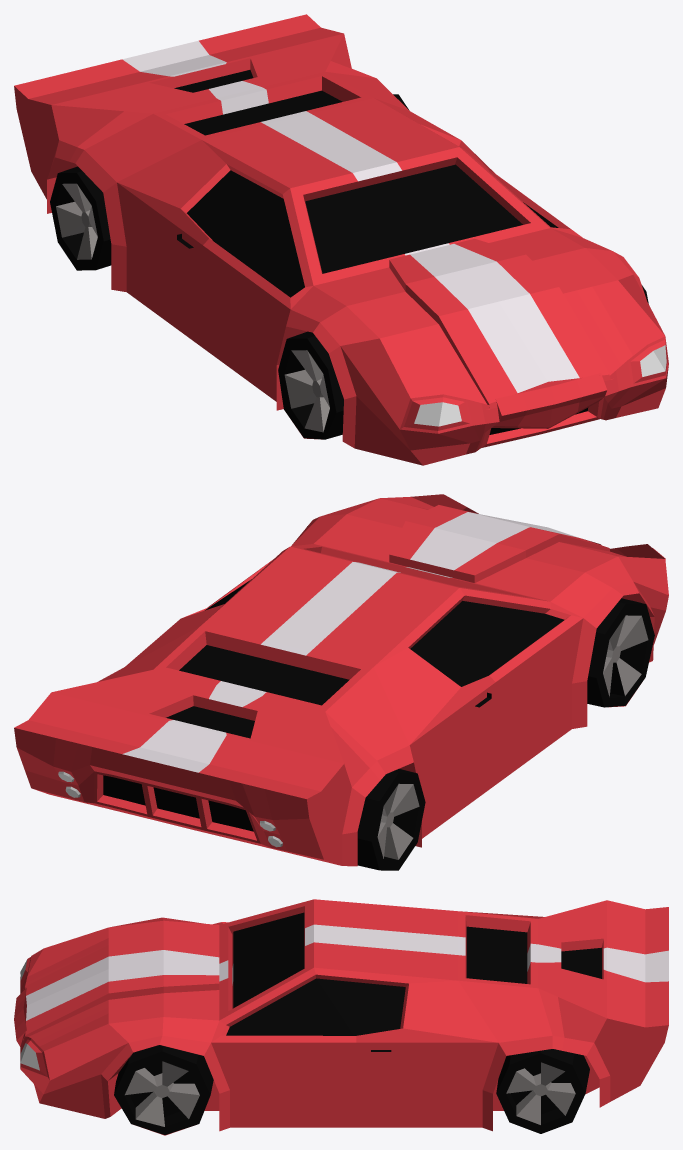
Rendered from auto.fbx.
The picture shows the model from 3 angles, top to bottom: view 1: azimuth 30°, elevation 25°; view 2: azimuth 150°, elevation 25°; view 3: azimuth 270°, elevation 25°; orthographic projection. The views are drawn at different scales.
Parts seen in each view (by area): view 1: Cube; view 2: Cube; view 3: Cube.
Boxes of the visible parts, bbox=[...] form: Cube: bbox=[14, 14, 668, 465]; Cube: bbox=[14, 494, 668, 870]; Cube: bbox=[14, 899, 668, 1135].
Size of the model in its own units: 128 by 63.19 by 273.
